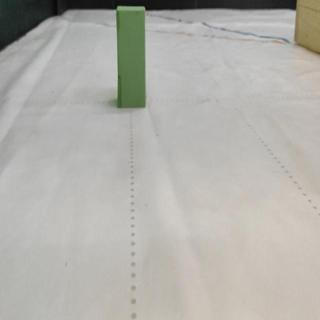greenbox: (115, 5, 147, 107)
